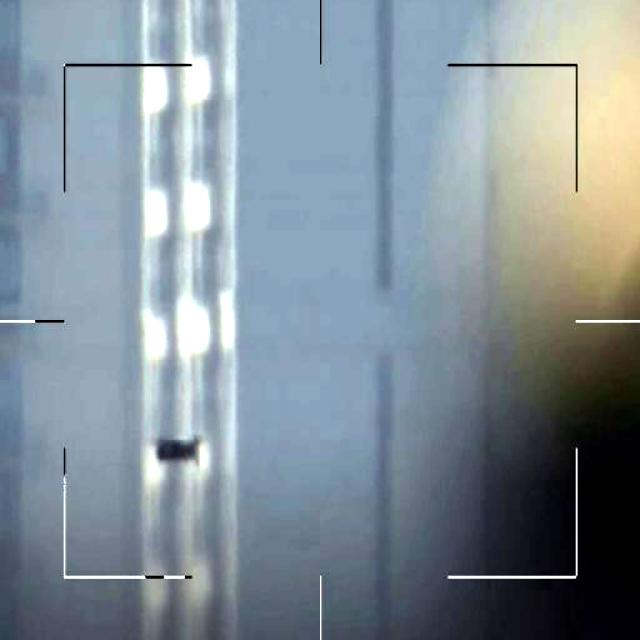bird: (154, 429, 204, 462)
